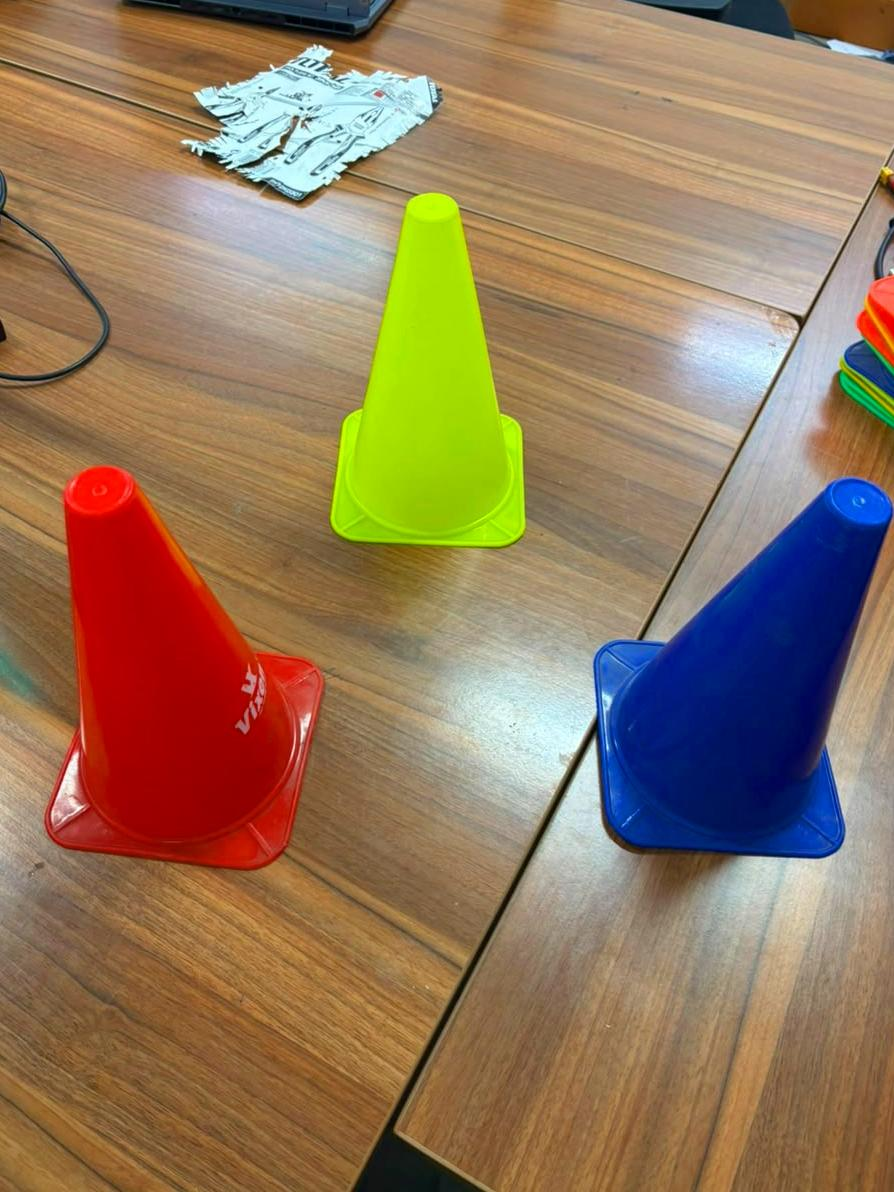0 cone: (594, 479, 891, 857), (46, 467, 322, 868), (331, 195, 524, 547)
